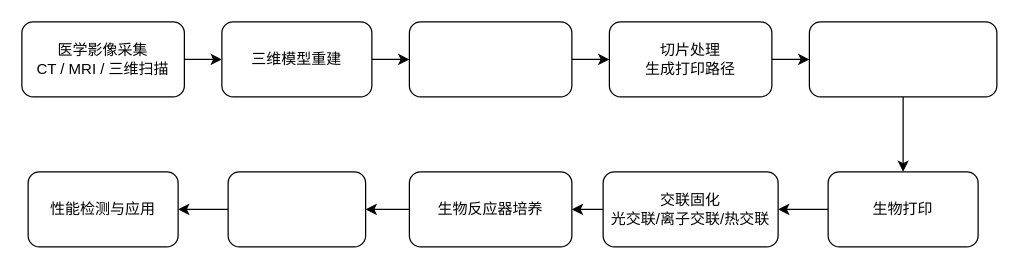
Image size: 1019x269. Some labels were removed from this diagram. Each missing label, with the centre of its shape:
组织成熟: the point at 296,209
组织结构设计 CAD建模: the point at 490,59
配置生物墨水 细胞+水凝胶+生长因子: the point at 902,59
